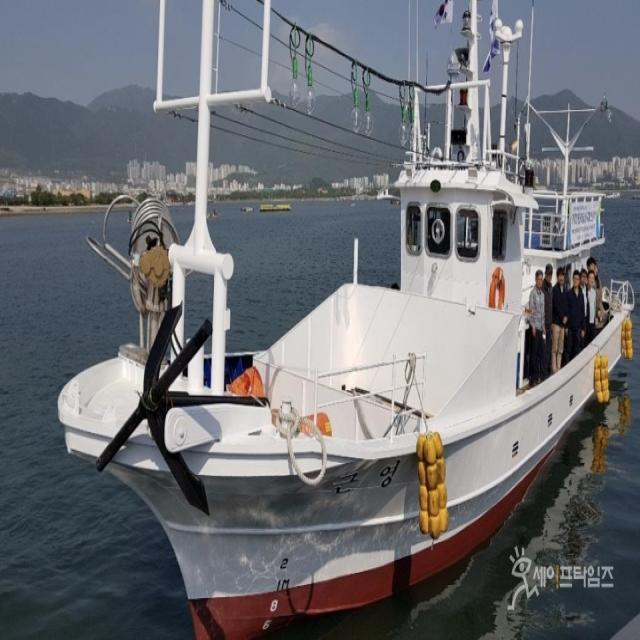Ship: (53, 1, 640, 640)
